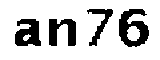6: (118, 6, 154, 50)
7: (84, 7, 114, 50)
a: (11, 17, 41, 48)
n: (48, 16, 78, 49)
